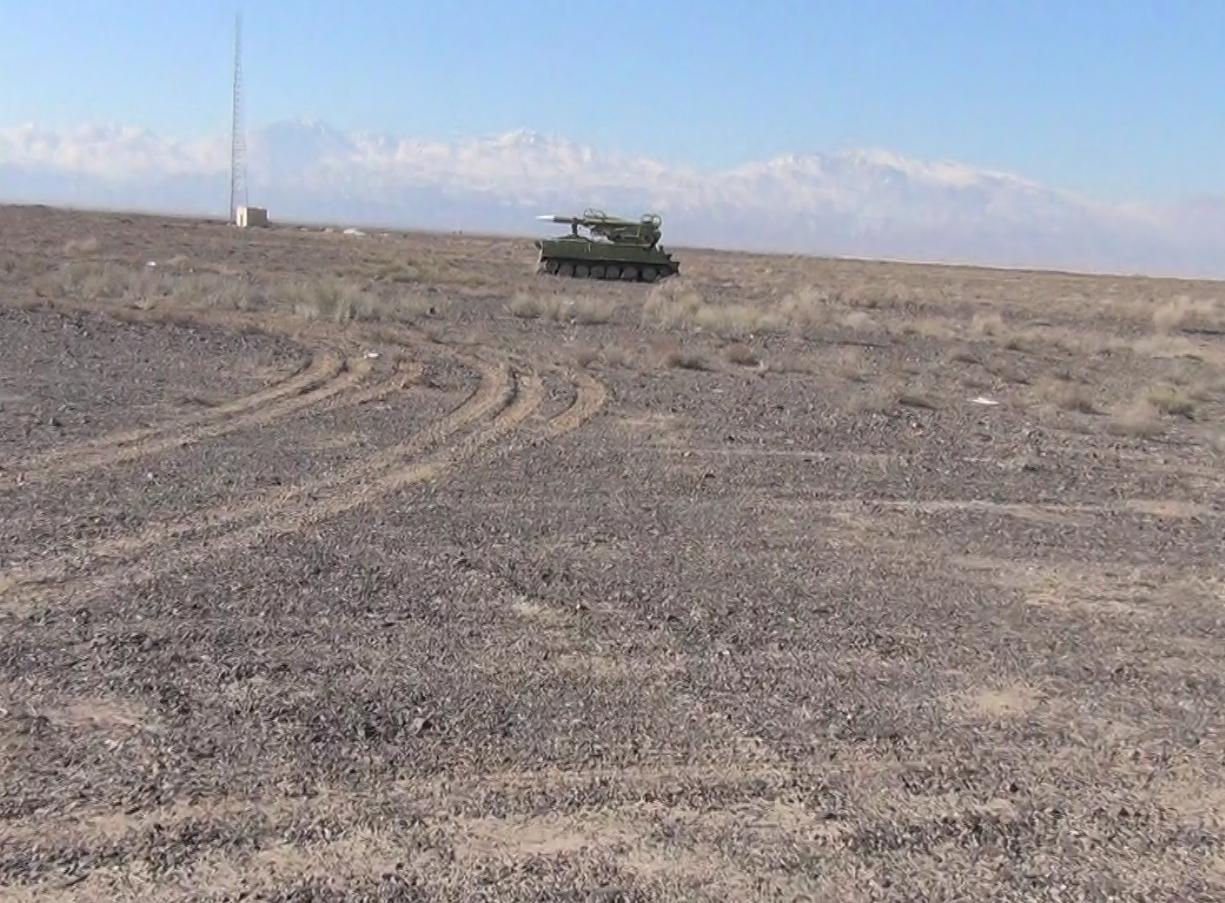armored_car: (530, 208, 680, 286)
